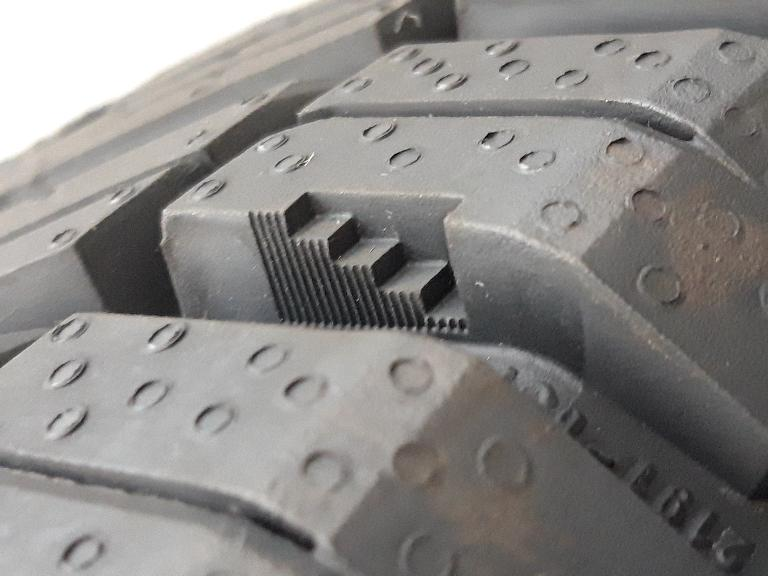temoin:100: (239, 180, 487, 350)
